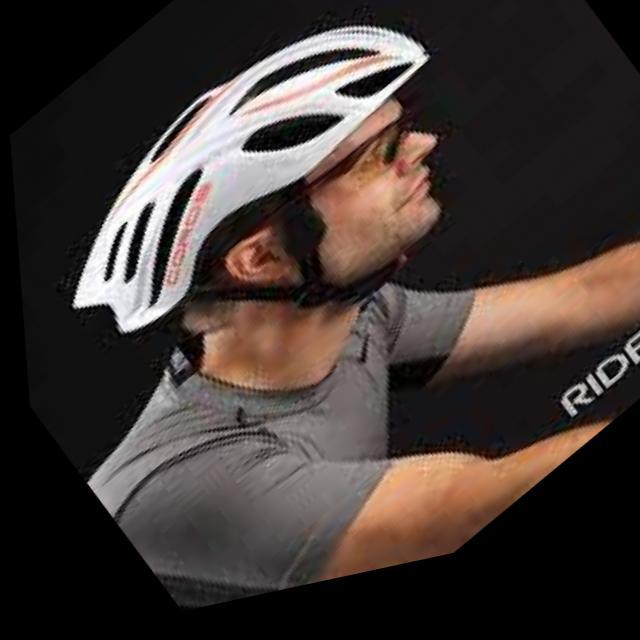Helmet: (68, 18, 452, 334)
